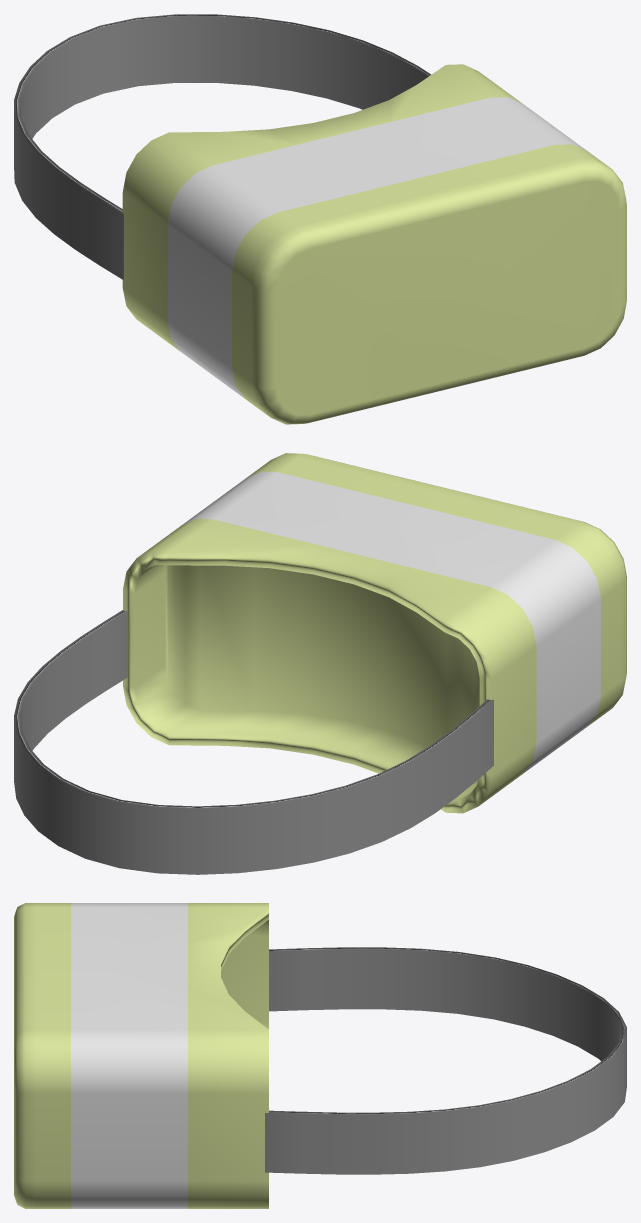
The model's file is megane C.fbx.
3 renders of one model, top to bottom at view 1: azimuth 30°, elevation 25°; view 2: azimuth 150°, elevation 25°; view 3: azimuth 270°, elevation 25°, orthographic. The views are drawn at different scales.
Parts seen in each view (by area): view 1: polySurface1, sweep1; view 2: polySurface1, sweep1; view 3: polySurface1, sweep1.
Part boxes in pixels (x1,y1,x2,y2): polySurface1: (122, 64, 626, 424); sweep1: (14, 14, 431, 279); polySurface1: (123, 453, 626, 813); sweep1: (14, 610, 493, 874); polySurface1: (14, 903, 268, 1208); sweep1: (265, 947, 626, 1174).
Bounding box in the file's own units: 18.53 × 9 × 28.61.
